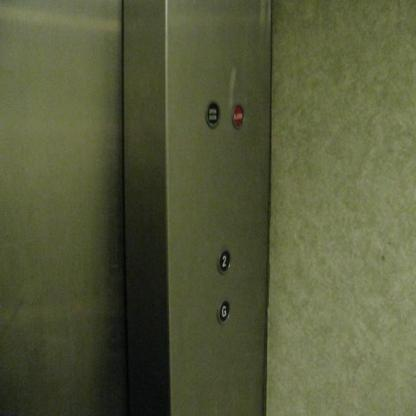2: (216, 246, 232, 274)
G: (216, 297, 232, 324)
text_blur: (204, 100, 222, 127), (231, 102, 244, 130)
